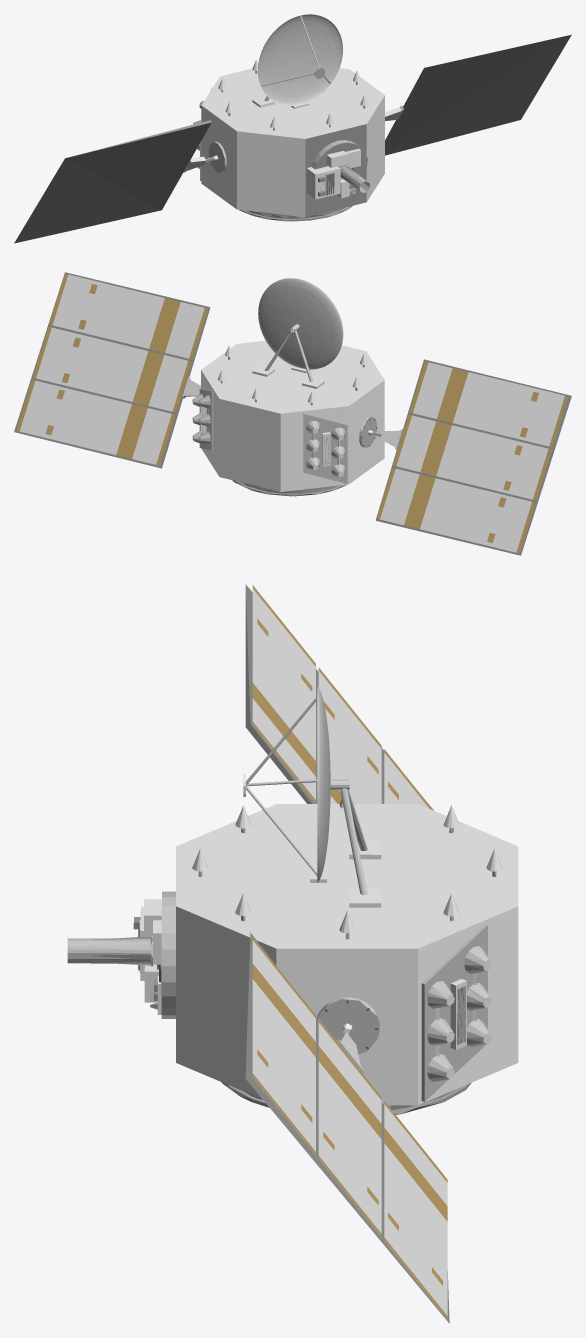
File: dscovr-preview.glb
The picture shows the model from 3 angles, top to bottom: view 1: azimuth 30°, elevation 25°; view 2: azimuth 150°, elevation 25°; view 3: azimuth 270°, elevation 25°; orthographic projection. The views are drawn at different scales.
Parts seen in each view (by area): view 1: Layer_0; view 2: Layer_0; view 3: Layer_0.
Boxes of the visible parts, box(x1,y1,x2,y2) form: Layer_0: box(14, 14, 571, 243); Layer_0: box(14, 272, 571, 555); Layer_0: box(67, 584, 518, 1323).
Size of the model in its own units: 266 by 96.42 by 103.
